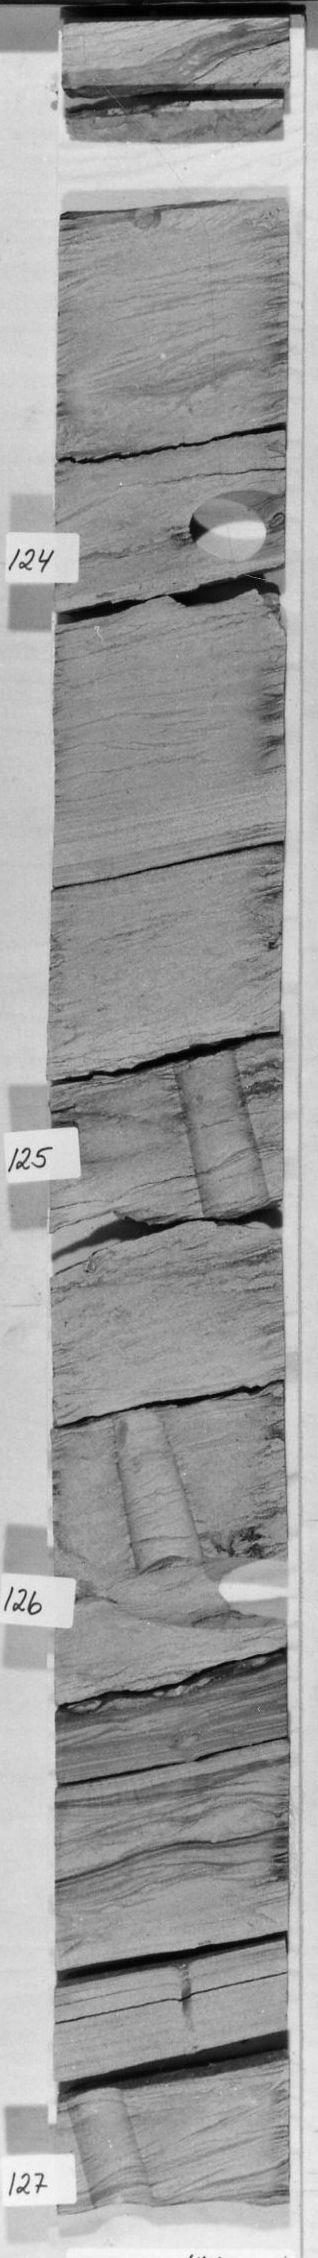hplug: (114, 1560, 283, 1637), (180, 475, 286, 567)
vplug: (164, 1040, 278, 1221), (108, 1403, 204, 1578), (65, 2090, 158, 2210)
